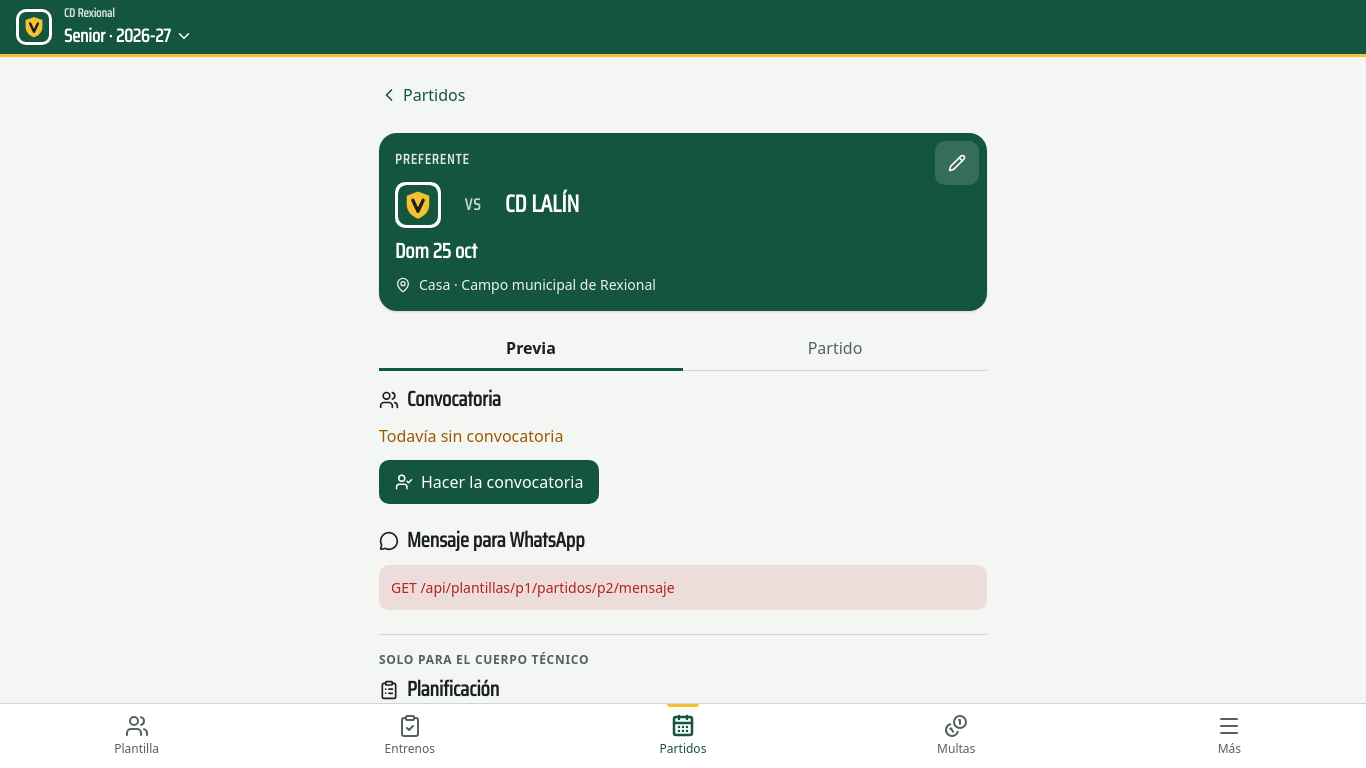
crear y editar › edita un partido desde su ficha
Click the button named "Editar": (957, 163) [935,141,979,185]
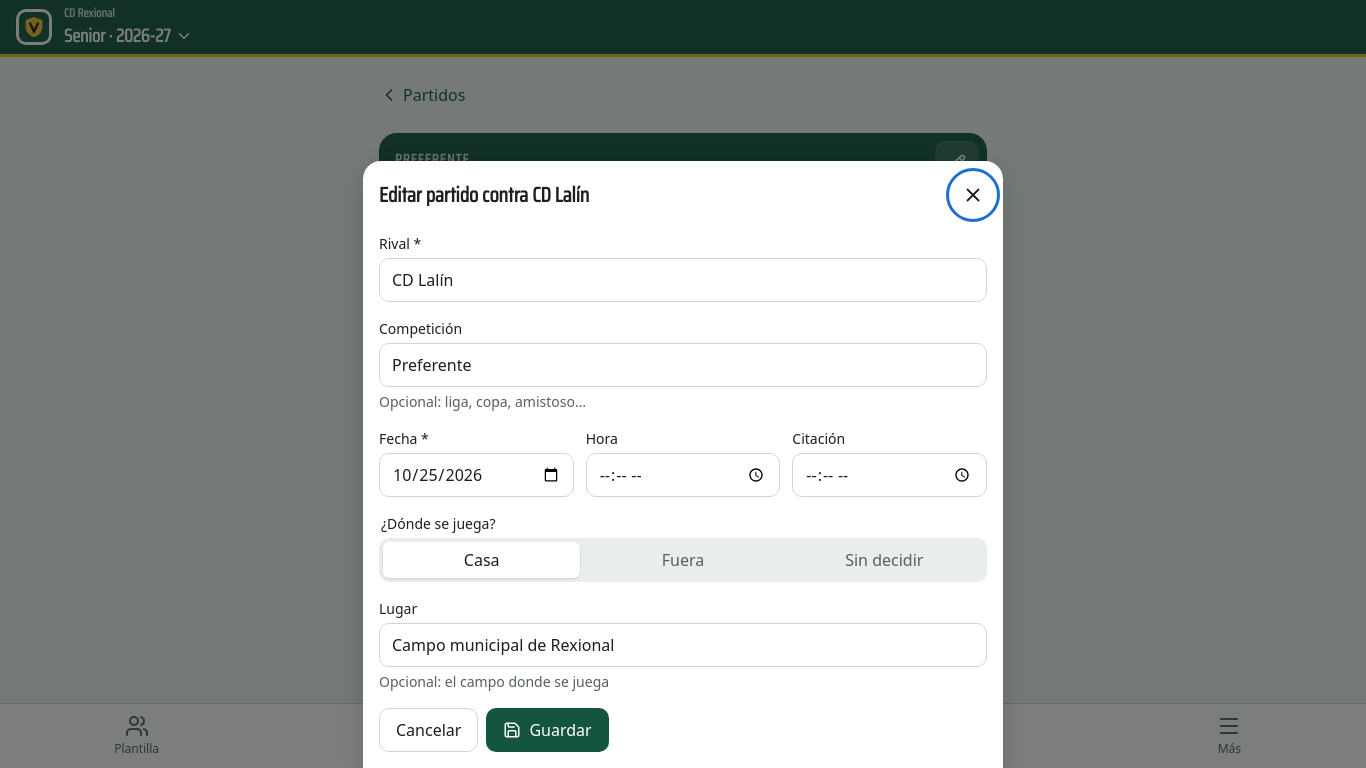
Result: the field labelled "Rival *" holds "CD Lalín" at [379,258,987,302]
Click the button "Fuera": (683, 560) [584,542,782,578]
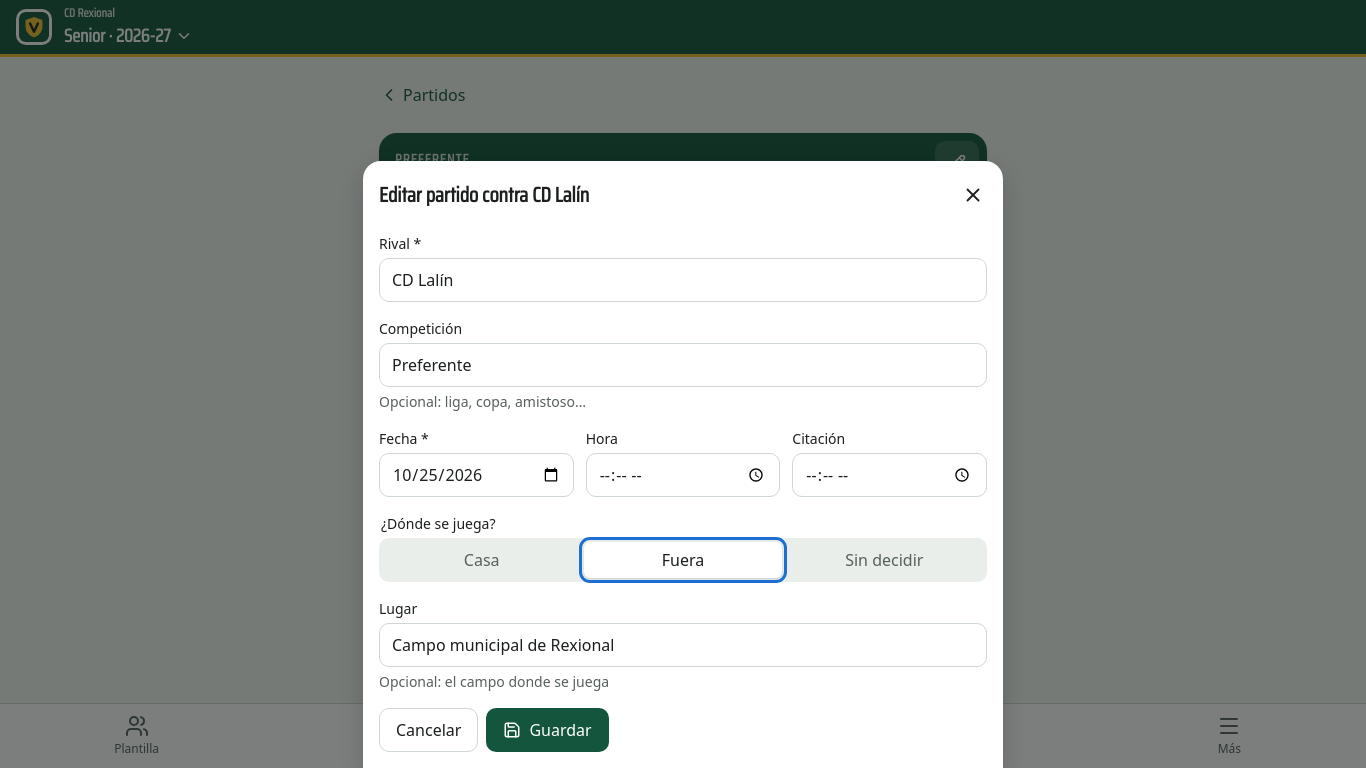
Replace the text in the field labelled "Lugar" with "Estadio de Lalín": (683, 645) [379,623,987,667]
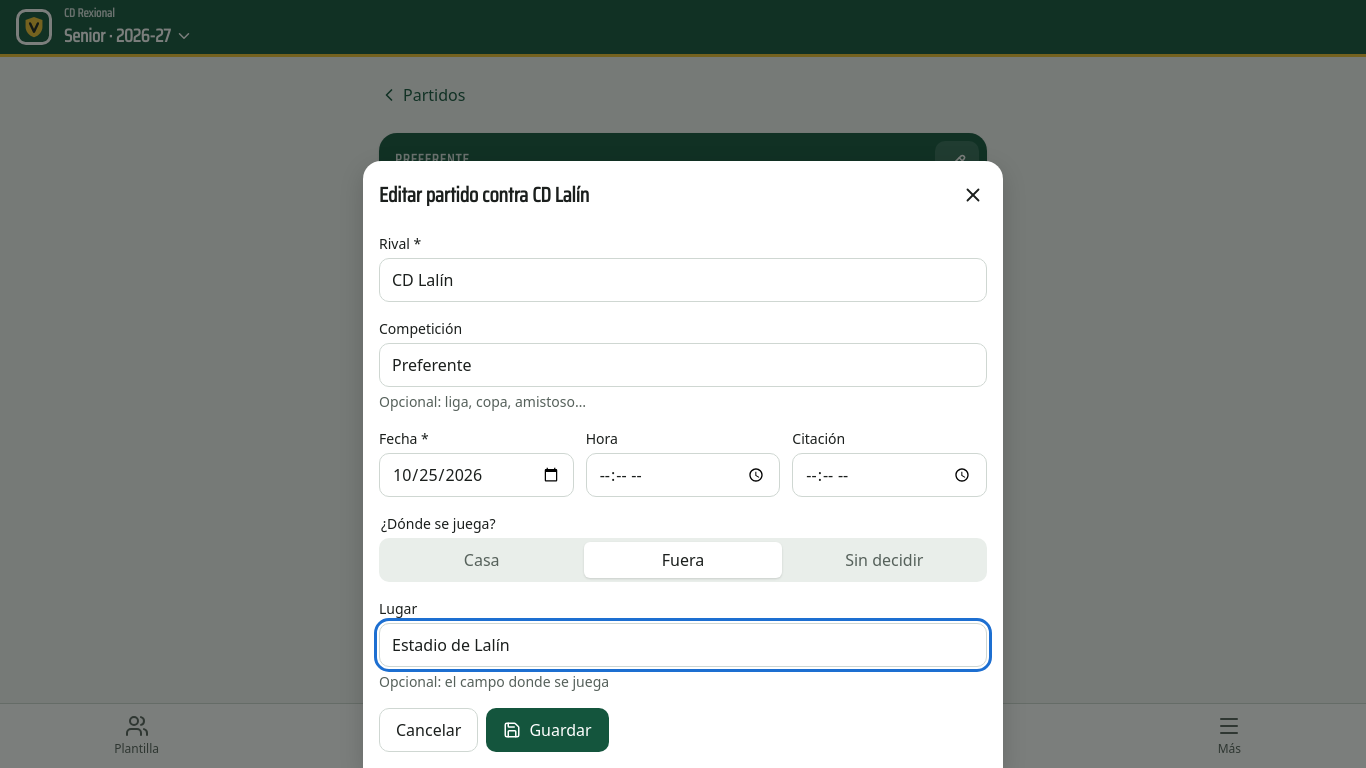
Click the button "Guardar": (548, 730) [486,708,609,752]
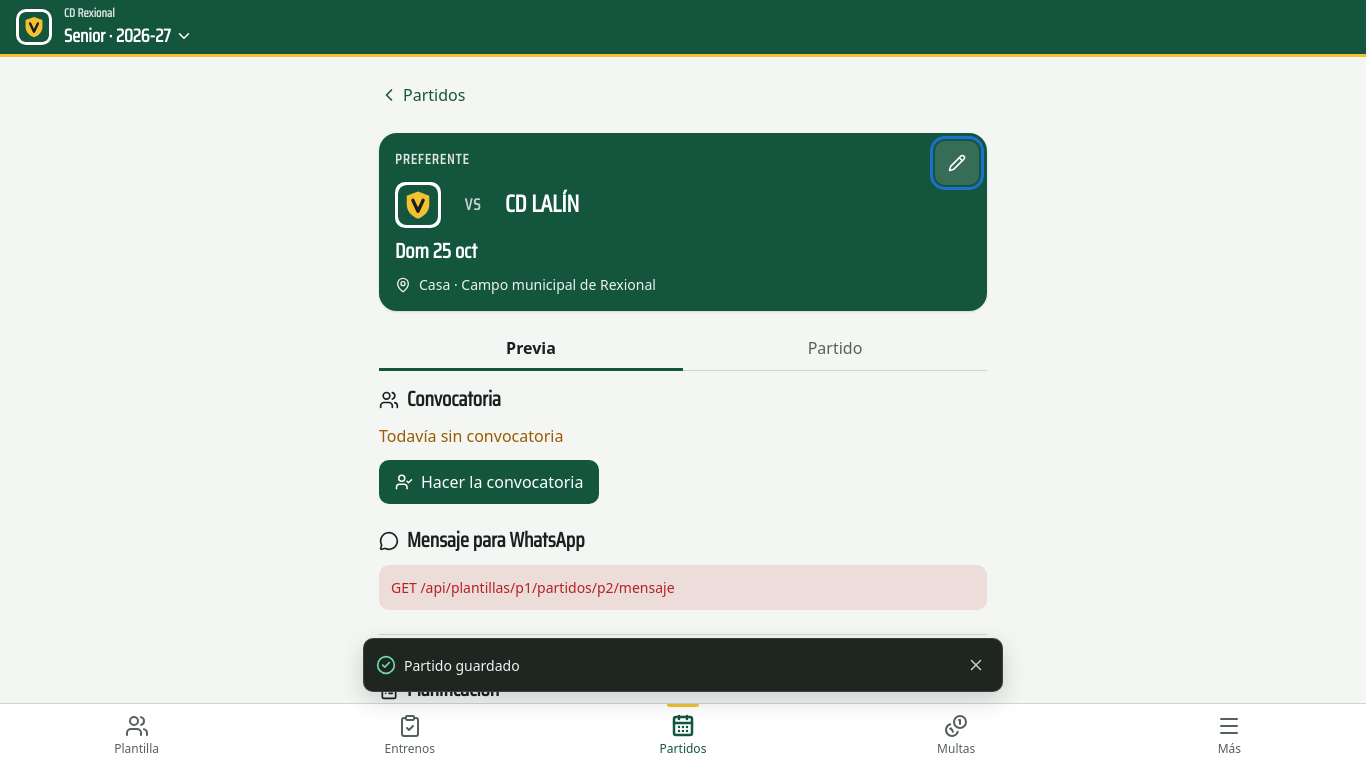
Result: the text "Partido guardado" is shown at [404,656,520,674]
